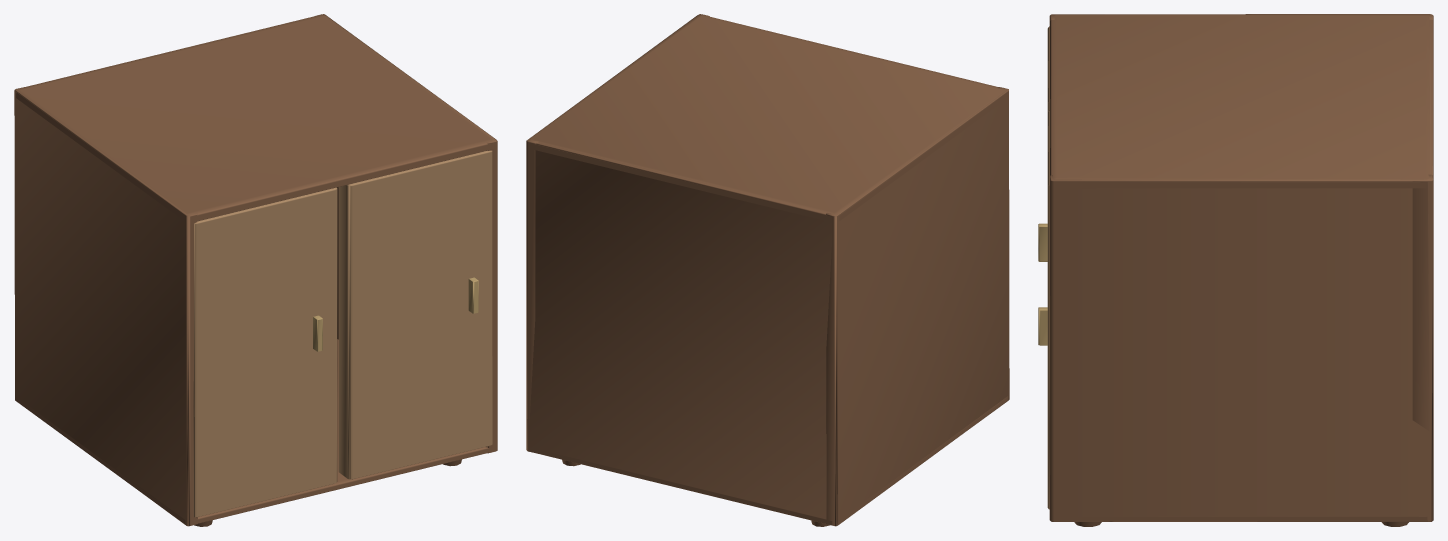
File: cabinet-3-7.lod.glb
3 views of the same model, side by side, from view 1: azimuth 30°, elevation 25°; view 2: azimuth 150°, elevation 25°; view 3: azimuth 270°, elevation 25° (orthographic). The views are drawn at different scales.
Parts seen in each view (by area): view 1: part, upholstery (×2); view 2: part; view 3: part, upholstery (×2).
Part boxes in pixels (box(x1,y1,x2,y2)): part: box(14, 14, 497, 526); upholstery (×2): box(193, 150, 492, 517); part: box(526, 14, 1009, 526); part: box(1049, 14, 1433, 526); upholstery (×2): box(1038, 26, 1049, 509).
Size of the model in its own units: 1 by 1 by 1.
